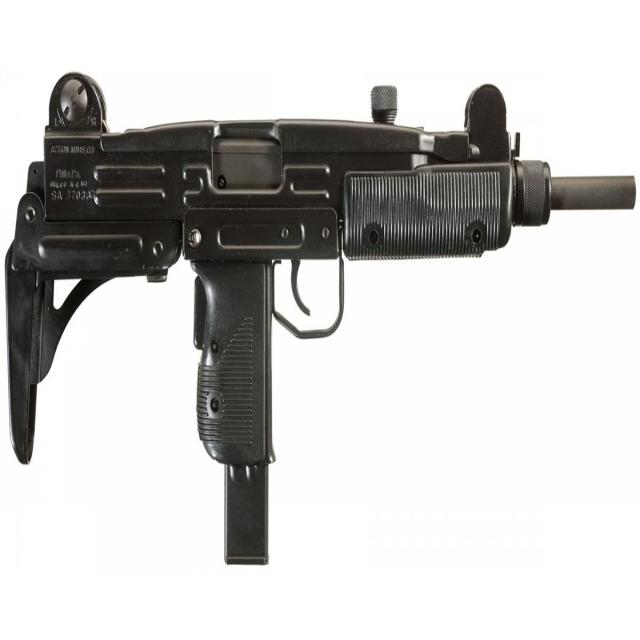SMG: (3, 72, 640, 570)
